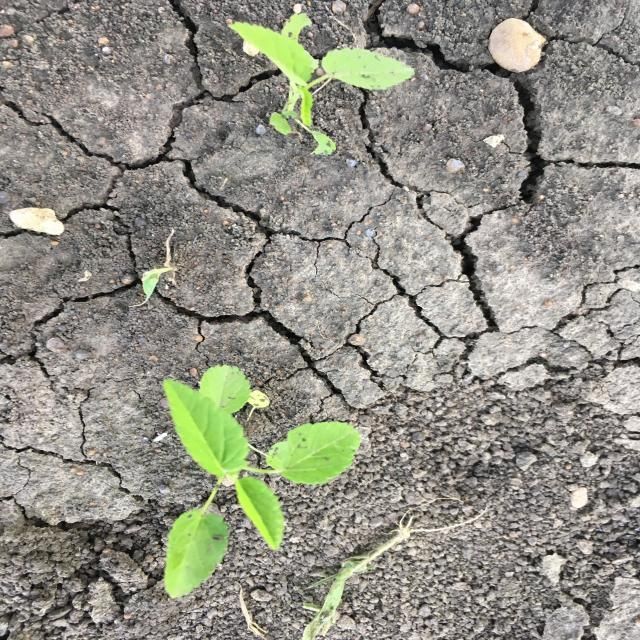PricklySida: (159, 364, 363, 600), (227, 12, 417, 158)
